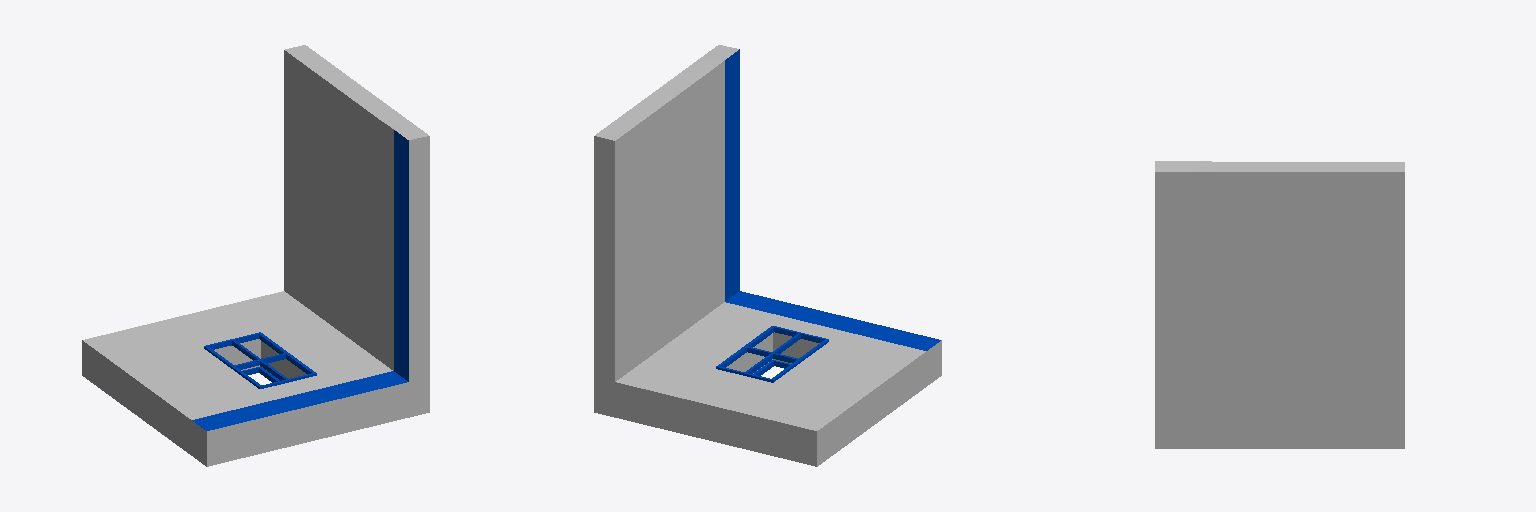
The model's file is wall.obj.
3 renders of one model, left to right at view 1: azimuth 30°, elevation 25°; view 2: azimuth 150°, elevation 25°; view 3: azimuth 270°, elevation 25°, orthographic.
Visible parts, largest first — view 1: Window_01.005, Window_01; view 2: Window_01.005, Window_01; view 3: Window_01.005.
Boxes of the visible parts, x1=… form: Window_01.005: x1=82, y1=45, x2=429, y2=466; Window_01: x1=204, y1=332, x2=316, y2=388; Window_01.005: x1=594, y1=45, x2=941, y2=466; Window_01: x1=716, y1=326, x2=828, y2=382; Window_01.005: x1=1155, y1=161, x2=1404, y2=448.
Size of the model in its own units: 3.61 by 4.31 by 3.5.